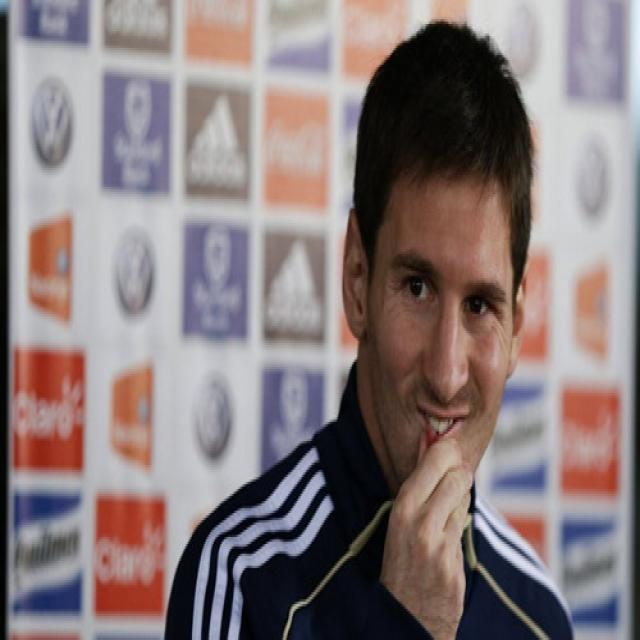mask: (367, 185, 521, 472)
